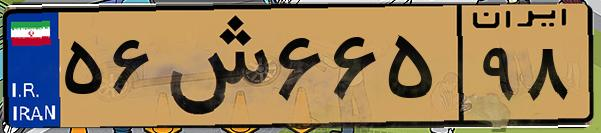5: (385, 28, 445, 110), (57, 26, 110, 100)
6: (270, 28, 330, 110), (330, 28, 385, 110), (110, 28, 158, 98)
8: (525, 38, 570, 115)
9: (475, 38, 525, 113)
ش: (158, 12, 270, 120)
